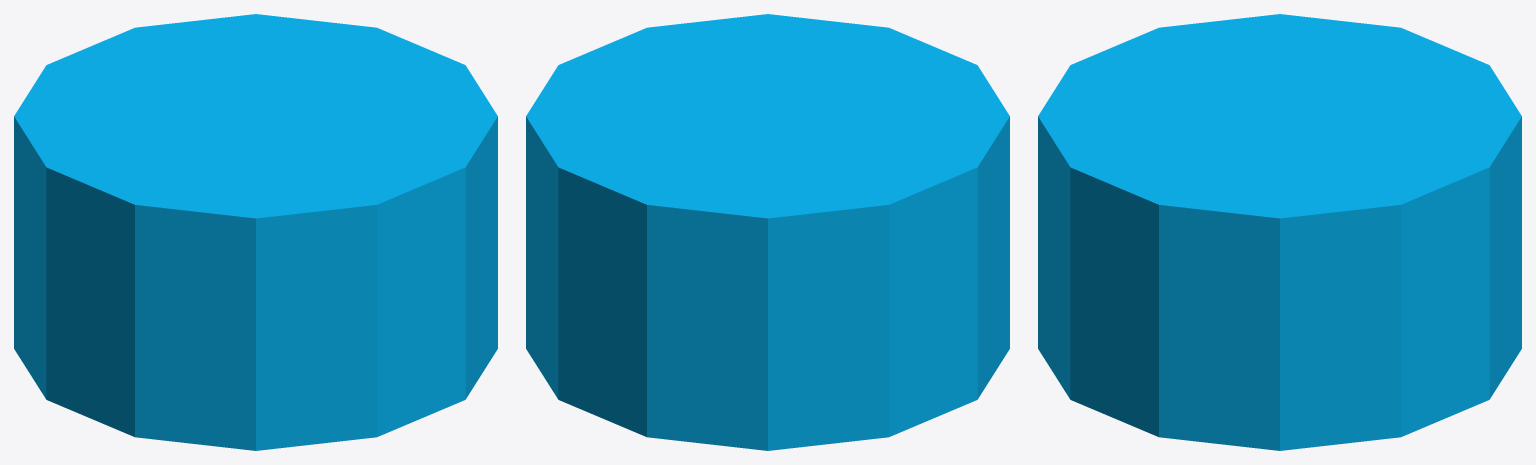
The model's file is cream5.glb.
3 views of the same model, side by side, from view 1: azimuth 30°, elevation 25°; view 2: azimuth 150°, elevation 25°; view 3: azimuth 270°, elevation 25° (orthographic).
Bounding box in the file's own units: 0.35 × 0.1855 × 0.35.
